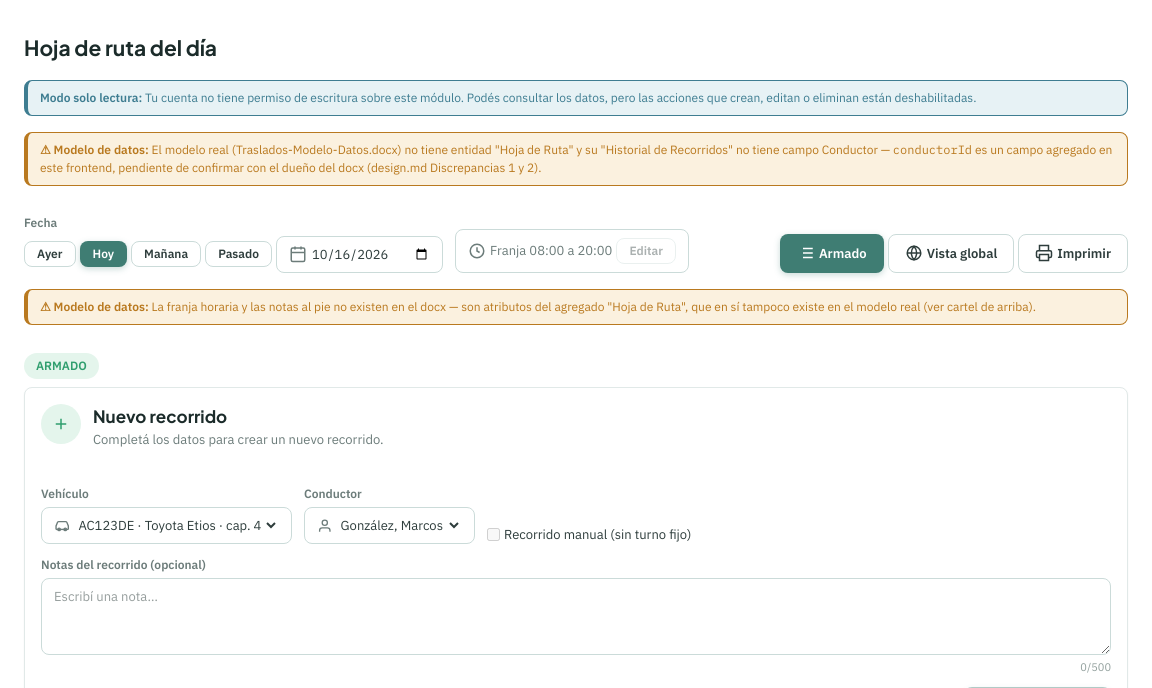
Test: HojaDeRutaPage — lo que NO se gatea (D1/D2) › sin permiso de escritura: los tres conmutadores de vista son activables y las tres vistas se renderizan completas
Check: the button "Armado" is enabled, box [780,234,884,273]
Check: the button "Imprimir" is enabled, box [1018,234,1128,273]
Step 1. Click the button "Vista global" → coordinates (951, 253), box [888,234,1014,273]
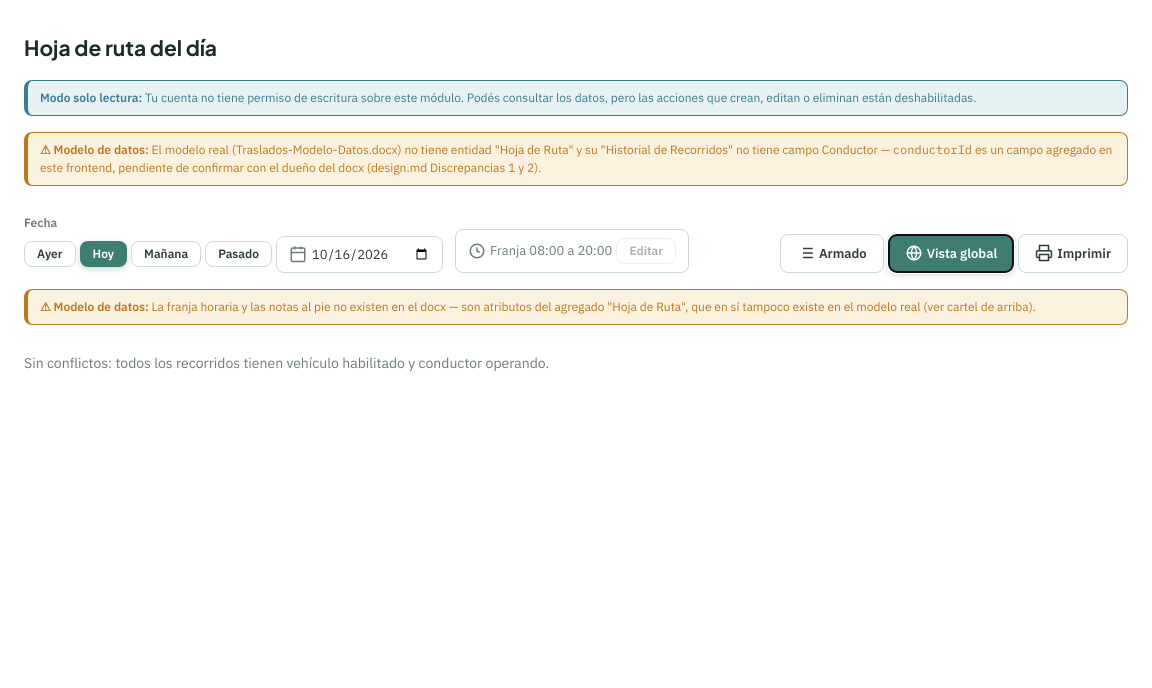
Check: the text "Sin conflictos" is shown, box [24,354,549,372]
Step 2. Click the button "Imprimir" → coordinates (1073, 253), box [1018,234,1128,273]
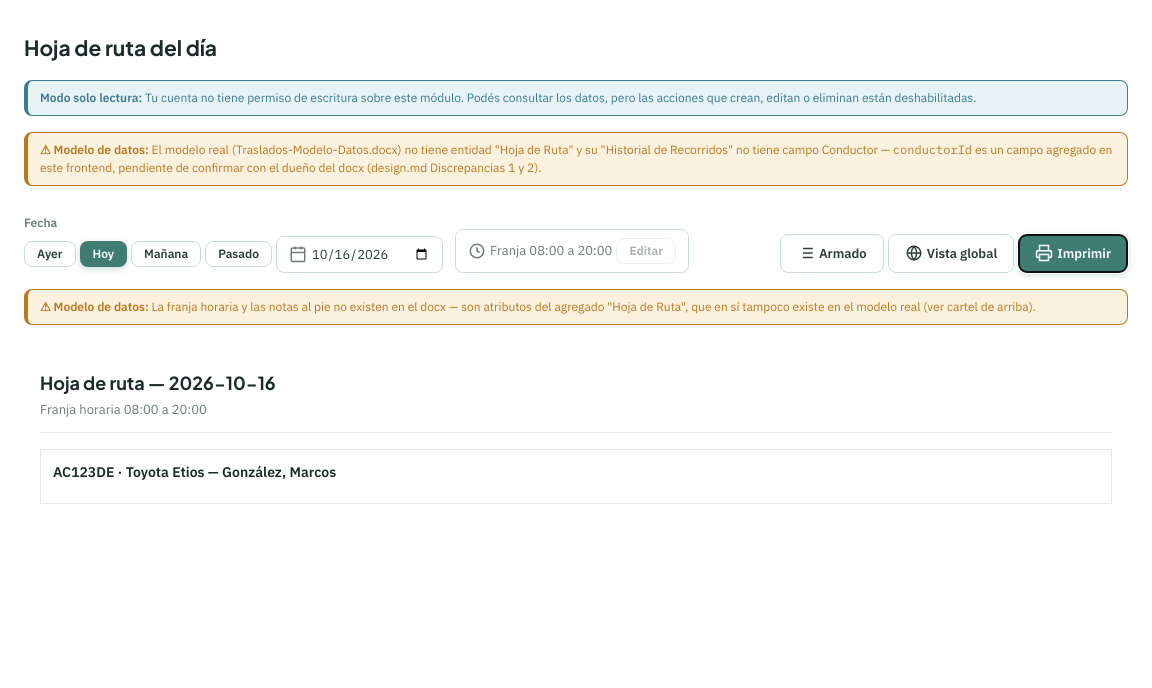
Step 3. Click the button "Armado" → coordinates (832, 253), box [780,234,884,273]
(page scrolled)
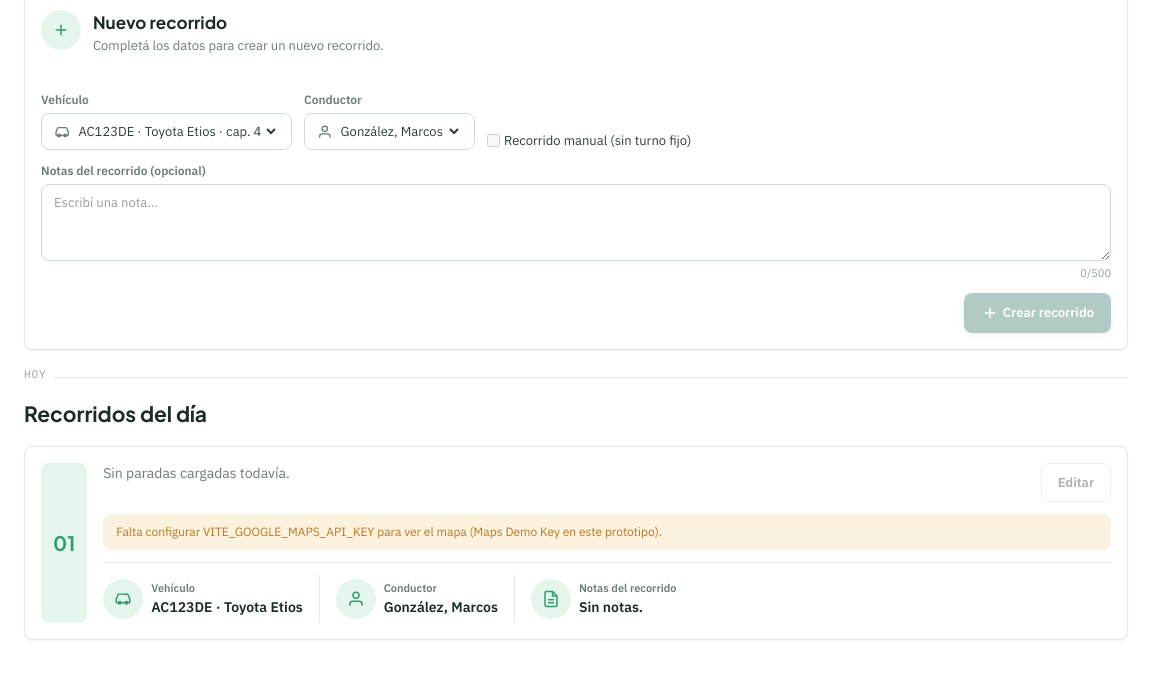
Check: the heading "Recorridos del día" is shown, box [24,398,207,430]
